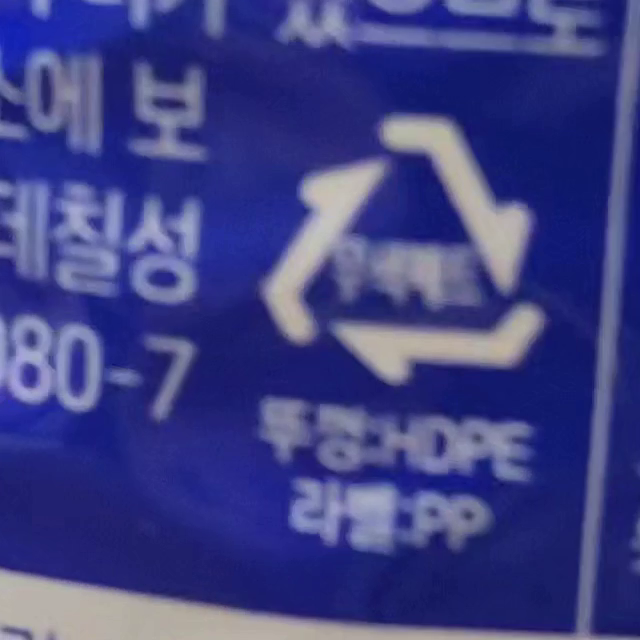ColorlessPet: (260, 120, 538, 381)
